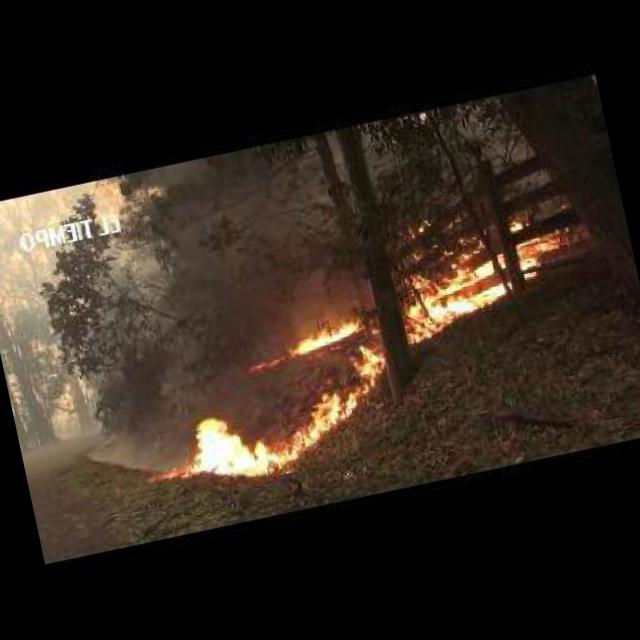fire: (184, 386, 361, 488), (388, 240, 514, 340), (284, 314, 360, 356), (516, 233, 568, 280), (344, 340, 388, 394), (246, 354, 282, 372), (511, 220, 522, 230)
